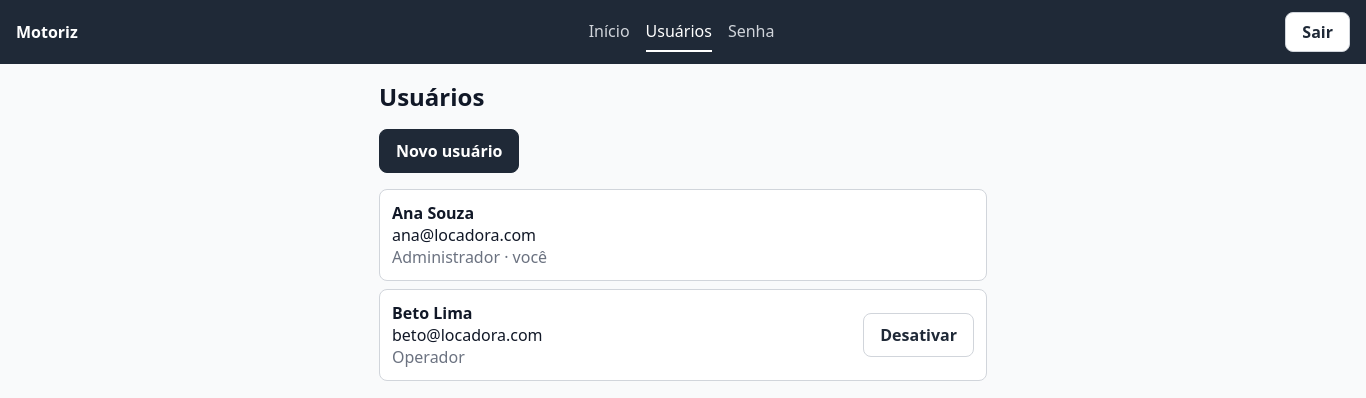
Usuarios › desativar e reativar atualiza a lista
Click the button "Desativar": (919, 335) [863,313,974,357]
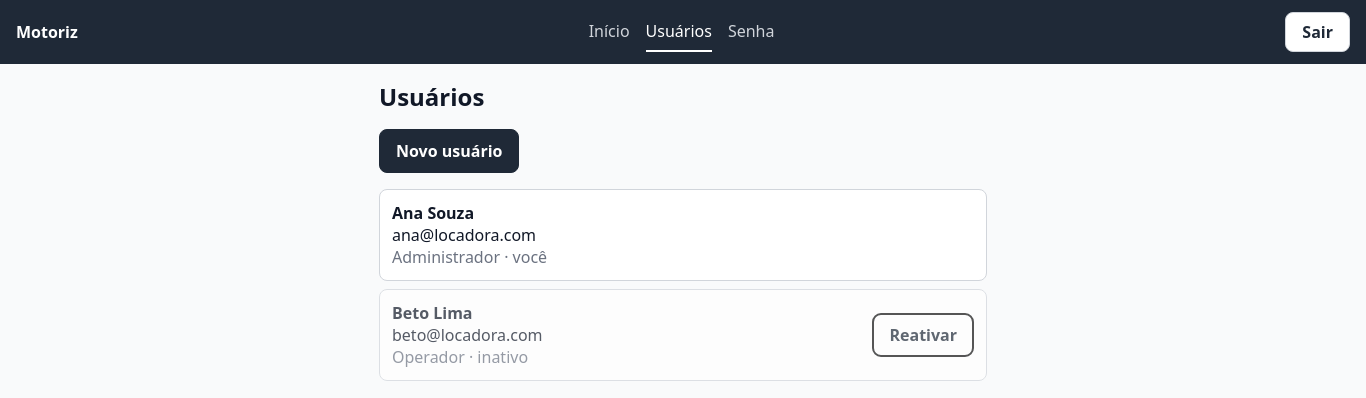
Click the button "Reativar": (923, 335) [872,313,974,357]
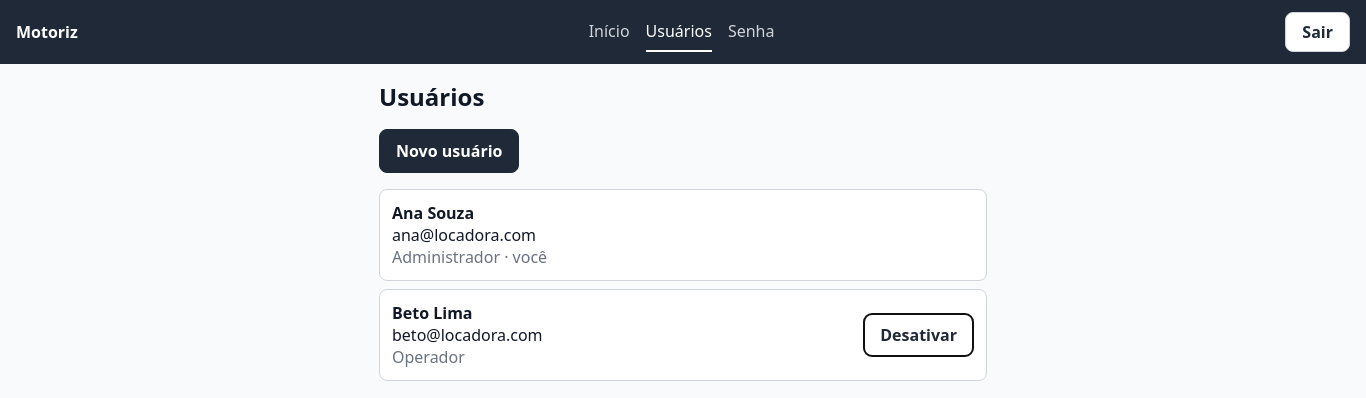
Expected: the button "Desativar" is shown, [863,313,974,357]
